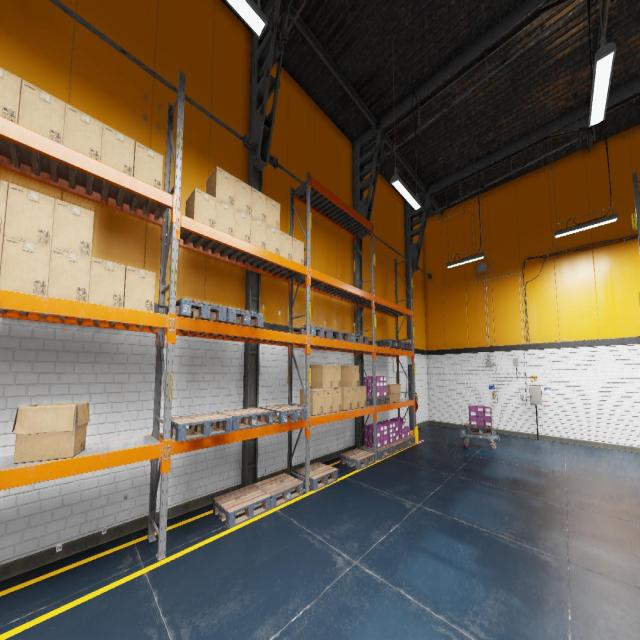box: (12, 402, 89, 463), (4, 182, 55, 246), (0, 236, 51, 296), (18, 79, 65, 144), (51, 198, 94, 256), (47, 247, 91, 302), (62, 103, 102, 161), (88, 256, 125, 308), (100, 123, 135, 176), (123, 266, 156, 312), (133, 141, 163, 190), (185, 187, 216, 228), (0, 67, 22, 123), (206, 166, 235, 207), (234, 177, 252, 216), (215, 199, 234, 235), (300, 388, 323, 416), (233, 208, 250, 242), (310, 364, 332, 389), (251, 188, 266, 224), (250, 216, 266, 249), (266, 196, 280, 230), (0, 179, 8, 235), (266, 224, 280, 255), (341, 386, 359, 409), (341, 365, 359, 386), (280, 231, 292, 260), (292, 237, 304, 265), (384, 384, 400, 402), (341, 387, 352, 410), (323, 388, 332, 414), (333, 388, 341, 413), (332, 365, 340, 388), (359, 386, 366, 408), (0, 234, 3, 274)
pallets: (212, 485, 270, 528), (170, 412, 233, 442), (254, 474, 304, 508), (166, 298, 226, 322), (217, 408, 273, 431), (295, 462, 338, 491), (260, 404, 307, 424), (224, 307, 263, 328), (340, 449, 375, 469), (293, 325, 332, 339), (361, 444, 393, 460), (316, 330, 351, 342), (464, 423, 495, 436), (344, 334, 369, 344), (375, 339, 402, 348), (366, 396, 390, 406), (387, 440, 405, 453), (399, 436, 415, 448), (395, 341, 412, 350)
